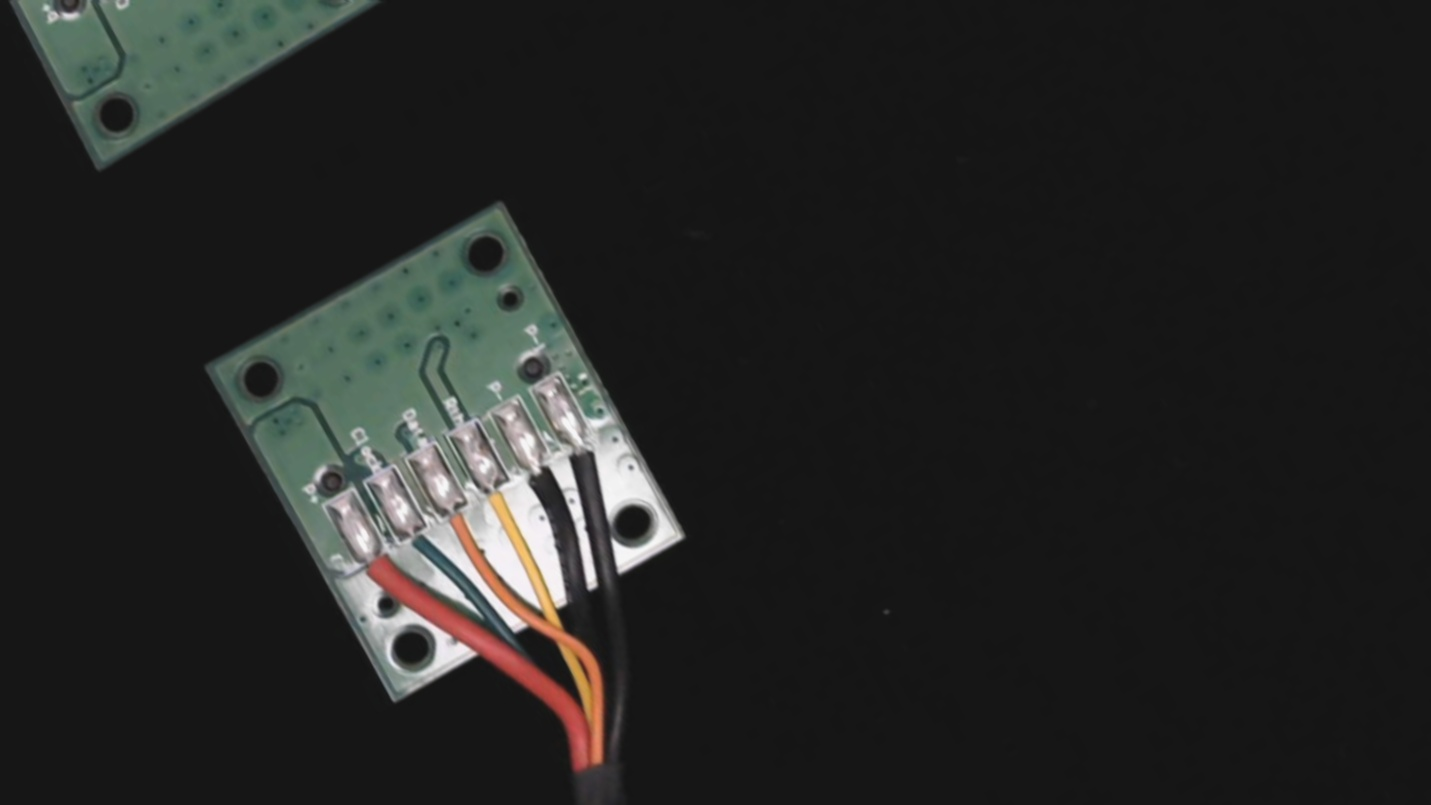Black: (508, 441, 576, 516)
Black1: (549, 418, 619, 494)
Green: (383, 507, 452, 580)
Orange: (424, 485, 494, 559)
Red: (343, 531, 407, 602)
Yellow: (465, 464, 539, 543)
